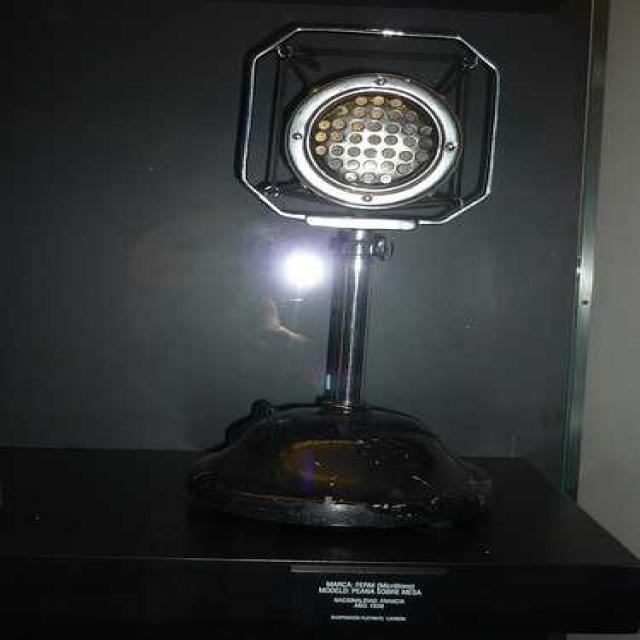microphone: (258, 29, 492, 240)
